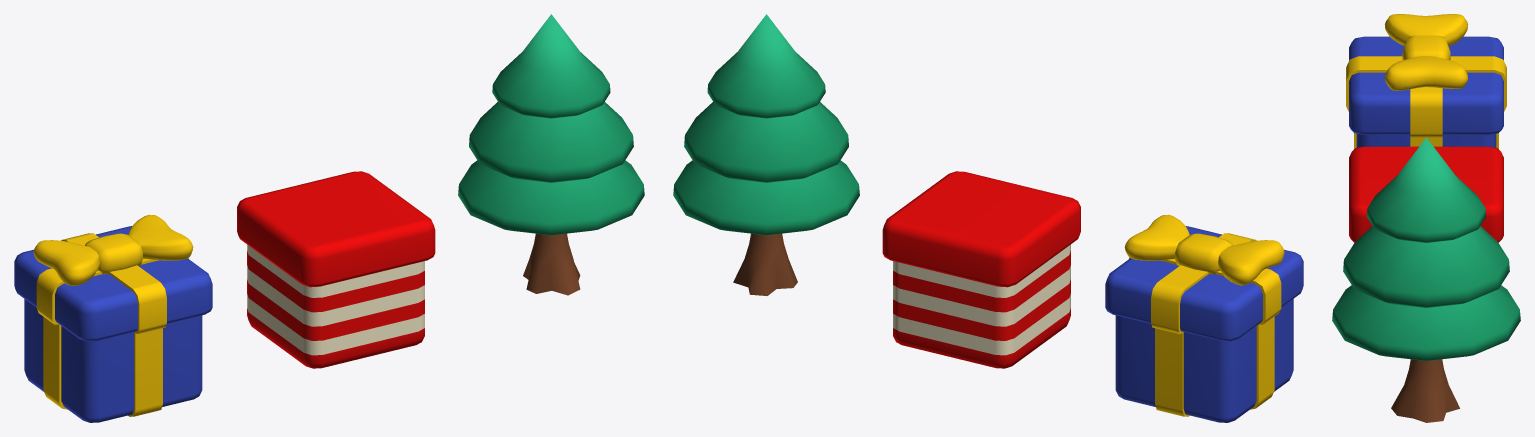
The model's file is xmastree.fbx.
3 renders of one model, left to right at view 1: azimuth 30°, elevation 25°; view 2: azimuth 150°, elevation 25°; view 3: azimuth 270°, elevation 25°, orthographic.
Parts seen in each view (by area): view 1: cube_gift, cube_candy, xmas_tree; view 2: cube_gift, cube_candy, xmas_tree; view 3: xmas_tree, cube_gift, cube_candy.
Boxes of the visible parts, x1,y1,x2,y2 form: cube_gift: [14, 214, 212, 422]; cube_candy: [237, 171, 435, 368]; xmas_tree: [458, 14, 644, 295]; cube_gift: [1105, 214, 1303, 422]; cube_candy: [882, 171, 1080, 368]; xmas_tree: [673, 14, 859, 295]; xmas_tree: [1332, 137, 1520, 422]; cube_gift: [1346, 14, 1506, 148]; cube_candy: [1349, 146, 1503, 242].
Bounding box in the file's own units: 4.9 × 2.16 × 1.35.
